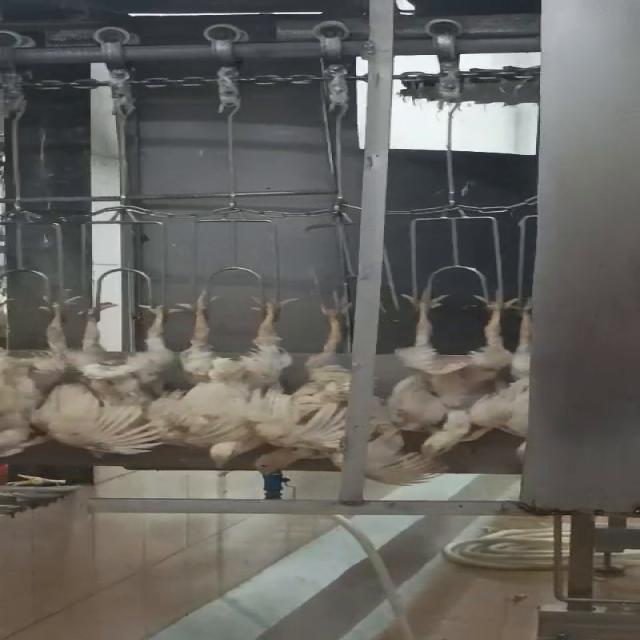chicken: (34, 288, 208, 461), (163, 288, 310, 463), (380, 284, 510, 460), (255, 288, 358, 483), (0, 294, 67, 460), (500, 292, 544, 464)
